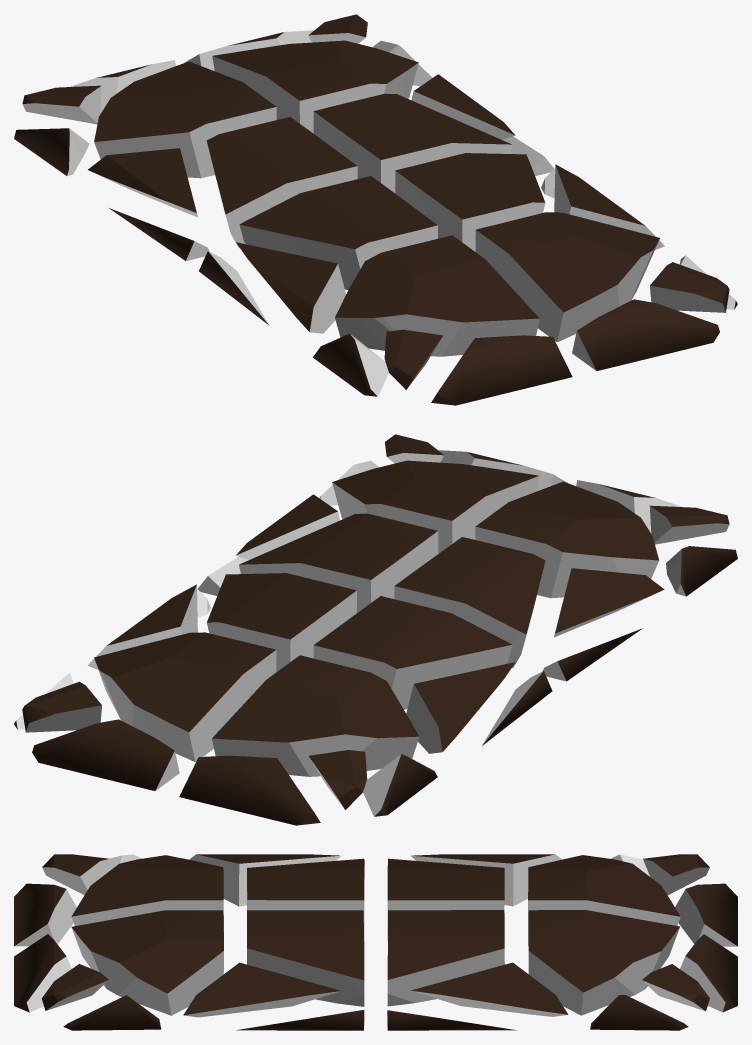
The model's file is Buriedgraveshards2.fbx.
The picture shows the model from 3 angles, top to bottom: view 1: azimuth 30°, elevation 25°; view 2: azimuth 150°, elevation 25°; view 3: azimuth 270°, elevation 25°; orthographic projection. The views are drawn at different scales.
Visible parts, largest first — view 1: buried grave1_cell.005, buried grave1_cell.006, buried grave1_cell.007, buried grave1_cell.023, buried grave1_cell.008, buried grave1_cell.022, buried grave1_cell.021, buried grave1_cell.020, buried grave1_cell.001, buried grave1_cell, buried grave1_cell.027, buried grave1_cell.026 (+13 smaller); view 2: buried grave1_cell.007, buried grave1_cell.008, buried grave1_cell.005, buried grave1_cell.022, buried grave1_cell.006, buried grave1_cell.023, buried grave1_cell.020, buried grave1_cell.021, buried grave1_cell.003, buried grave1_cell.002, buried grave1_cell.026, buried grave1_cell.027 (+13 smaller); view 3: buried grave1_cell.006, buried grave1_cell.008, buried grave1_cell.020, buried grave1_cell.021, buried grave1_cell.005, buried grave1_cell.007, buried grave1_cell.023, buried grave1_cell.022, buried grave1_cell.024, buried grave1_cell.025, buried grave1_cell, buried grave1_cell.002 (+12 smaller).
Part boxes in pixels (x1=…): buried grave1_cell.005: x1=335, y1=235, x2=539, y2=356; buried grave1_cell.006: x1=475, y1=212, x2=659, y2=342; buried grave1_cell.007: x1=94, y1=61, x2=276, y2=178; buried grave1_cell.023: x1=239, y1=176, x2=437, y2=290; buried grave1_cell.008: x1=212, y1=40, x2=418, y2=133; buried grave1_cell.022: x1=206, y1=117, x2=357, y2=247; buried grave1_cell.021: x1=313, y1=93, x2=512, y2=193; buried grave1_cell.020: x1=395, y1=153, x2=545, y2=251; buried grave1_cell.001: x1=572, y1=299, x2=719, y2=370; buried grave1_cell: x1=431, y1=335, x2=572, y2=405; buried grave1_cell.027: x1=236, y1=242, x2=345, y2=333; buried grave1_cell.026: x1=88, y1=148, x2=197, y2=217; buried grave1_cell.007: x1=212, y1=655, x2=419, y2=776; buried grave1_cell.008: x1=94, y1=632, x2=276, y2=762; buried grave1_cell.005: x1=475, y1=481, x2=659, y2=598; buried grave1_cell.022: x1=313, y1=596, x2=512, y2=709; buried grave1_cell.006: x1=332, y1=460, x2=539, y2=553; buried grave1_cell.023: x1=394, y1=537, x2=545, y2=667; buried grave1_cell.020: x1=239, y1=513, x2=438, y2=612; buried grave1_cell.021: x1=206, y1=573, x2=356, y2=671; buried grave1_cell.003: x1=32, y1=719, x2=179, y2=790; buried grave1_cell.002: x1=179, y1=755, x2=320, y2=825; buried grave1_cell.026: x1=406, y1=662, x2=515, y2=753; buried grave1_cell.027: x1=554, y1=568, x2=664, y2=637; buried grave1_cell.006: x1=71, y1=910, x2=223, y2=1015; buried grave1_cell.008: x1=528, y1=910, x2=679, y2=1015; buried grave1_cell.020: x1=247, y1=910, x2=364, y2=1006; buried grave1_cell.021: x1=387, y1=910, x2=504, y2=1006; buried grave1_cell.005: x1=71, y1=855, x2=223, y2=931; buried grave1_cell.007: x1=528, y1=855, x2=680, y2=946; buried grave1_cell.023: x1=247, y1=858, x2=364, y2=941; buried grave1_cell.022: x1=387, y1=858, x2=504, y2=940; buried grave1_cell.024: x1=183, y1=962, x2=341, y2=1017; buried grave1_cell.025: x1=411, y1=962, x2=568, y2=1016; buried grave1_cell: x1=14, y1=883, x2=76, y2=946; buried grave1_cell.002: x1=675, y1=883, x2=737, y2=946.
Bounding box in the file's own units: 0.3154 × 0.043 × 0.6099.
